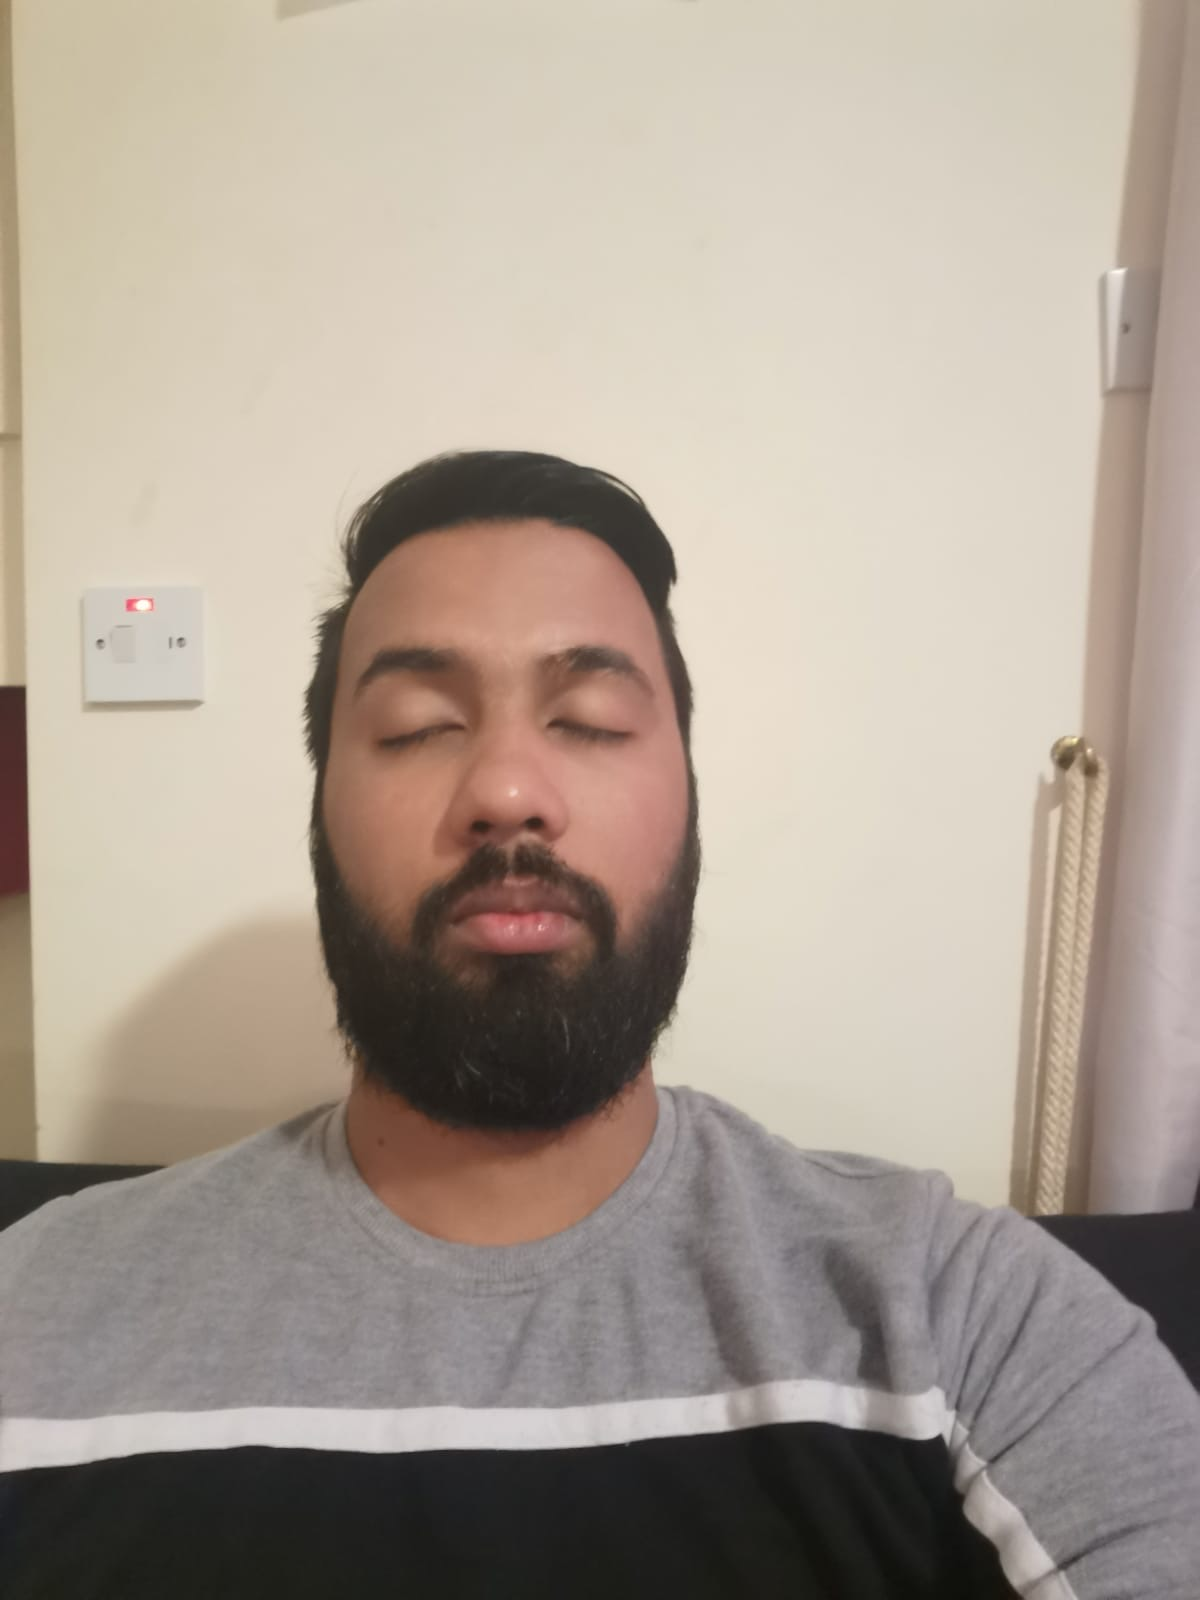Sleeping: (348, 671, 662, 772)
